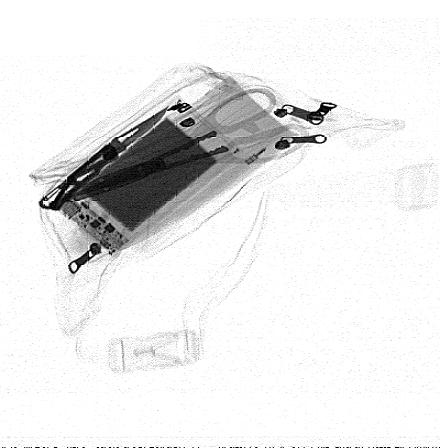Knife: (37, 103, 172, 211)
Powerbank: (53, 95, 241, 256)
Scissors: (72, 87, 306, 205)
